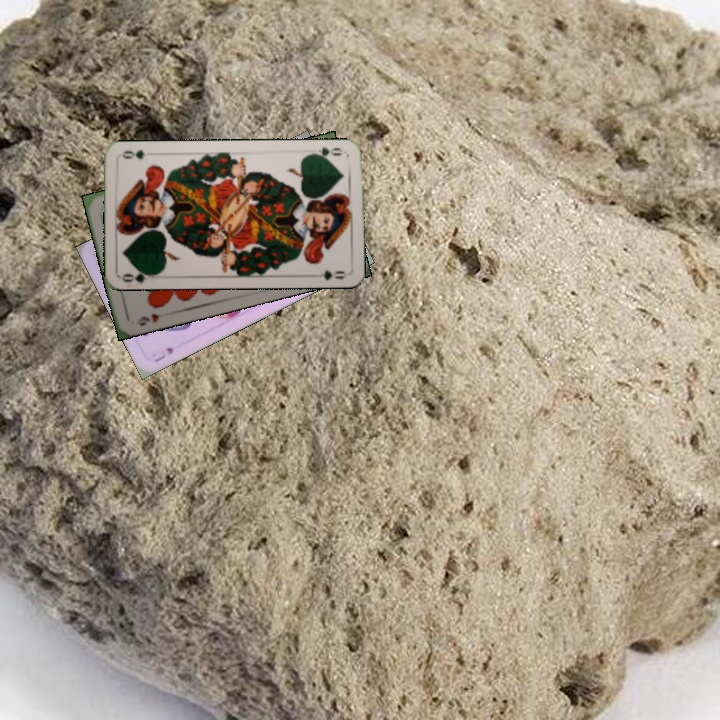GO: (119, 265, 160, 285), (307, 143, 345, 162)
H9: (133, 309, 162, 328)
SU: (150, 343, 176, 365)
